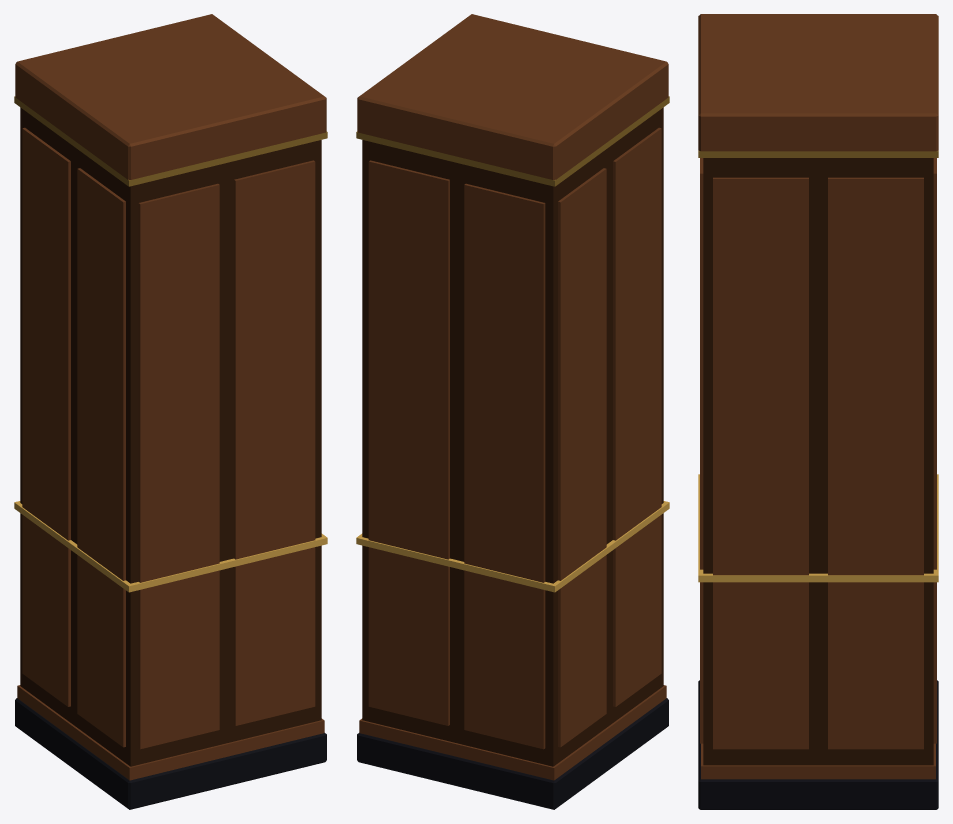
The model's file is wall_panel.glb.
3 views of the same model, side by side, from view 1: azimuth 30°, elevation 25°; view 2: azimuth 150°, elevation 25°; view 3: azimuth 270°, elevation 25° (orthographic). The views are drawn at different scales.
Parts seen in each view (by area): view 1: wall_panel; view 2: wall_panel; view 3: wall_panel.
Part boxes in pixels (x1,y1,x2,y2): wall_panel: (14,14,327,809); wall_panel: (356,14,669,809); wall_panel: (698,14,938,809).
Size of the model in its own units: 1 by 3.2 by 1.
